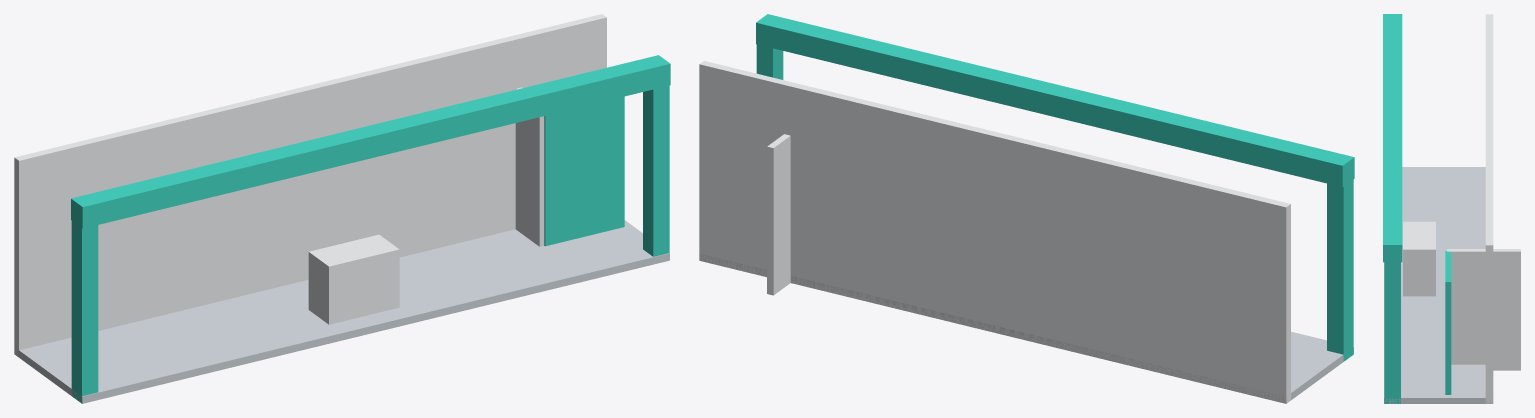
The picture shows the model from 3 angles, left to right: view 1: azimuth 30°, elevation 25°; view 2: azimuth 150°, elevation 25°; view 3: azimuth 270°, elevation 25°; orthographic projection. The views are drawn at different scales.
Visible parts, largest first — view 1: Exhibition Booth Concept; view 2: Exhibition Booth Concept; view 3: Exhibition Booth Concept.
Part boxes in pixels (x1,y1,x2,y2): Exhibition Booth Concept: (14, 14, 670, 403); Exhibition Booth Concept: (699, 14, 1354, 403); Exhibition Booth Concept: (1383, 14, 1520, 403).
Bounding box in the file's own units: 10 × 3.2 × 2.52.
